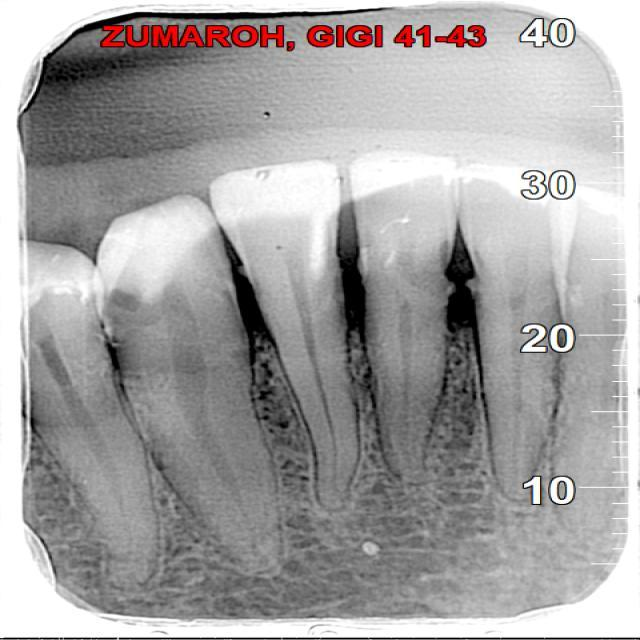individual-tooth-8tto: (94, 194, 288, 573), (210, 153, 358, 509), (444, 163, 571, 489), (346, 155, 461, 479)
